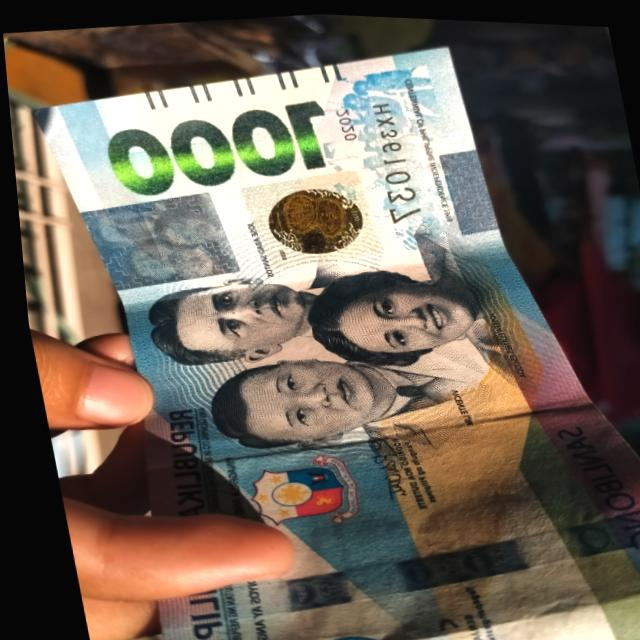concealed_value: (75, 190, 234, 289)
optically_variable_device: (236, 165, 379, 268)
security_thread: (140, 501, 640, 627)
serial_number: (360, 90, 426, 226)
value: (88, 84, 338, 209)
